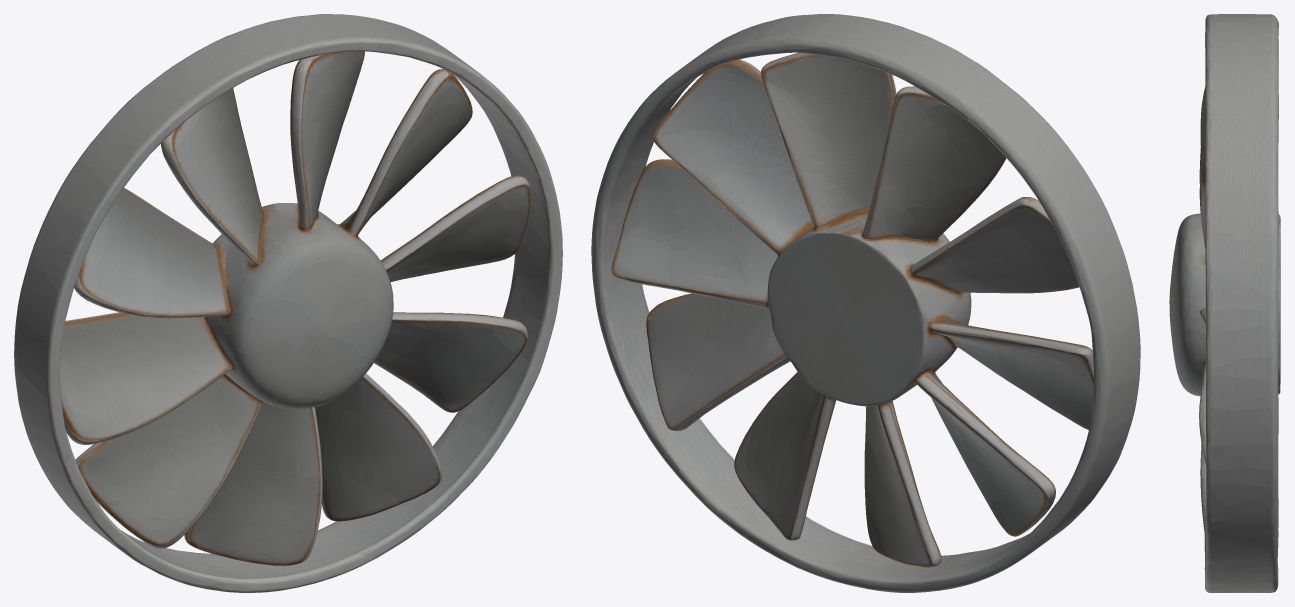
File: turbina_avviamento.glb
3 renders of one model, left to right at view 1: azimuth 30°, elevation 25°; view 2: azimuth 150°, elevation 25°; view 3: azimuth 270°, elevation 25°, orthographic. The views are drawn at different scales.
Parts seen in each view (by area): view 1: Mesh_0; view 2: Mesh_0; view 3: Mesh_0.
Part boxes in pixels (box(x1,y1,x2,y2)): Mesh_0: box(14, 14, 562, 592); Mesh_0: box(591, 14, 1140, 592); Mesh_0: box(1169, 14, 1280, 592).
Size of the model in its own units: 1.9 by 1.9 by 0.3649.
1 material, 1 textured.
